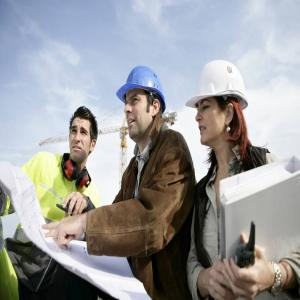blue: (124, 66, 165, 138)
none: (70, 107, 98, 166)
white: (197, 61, 248, 151)
